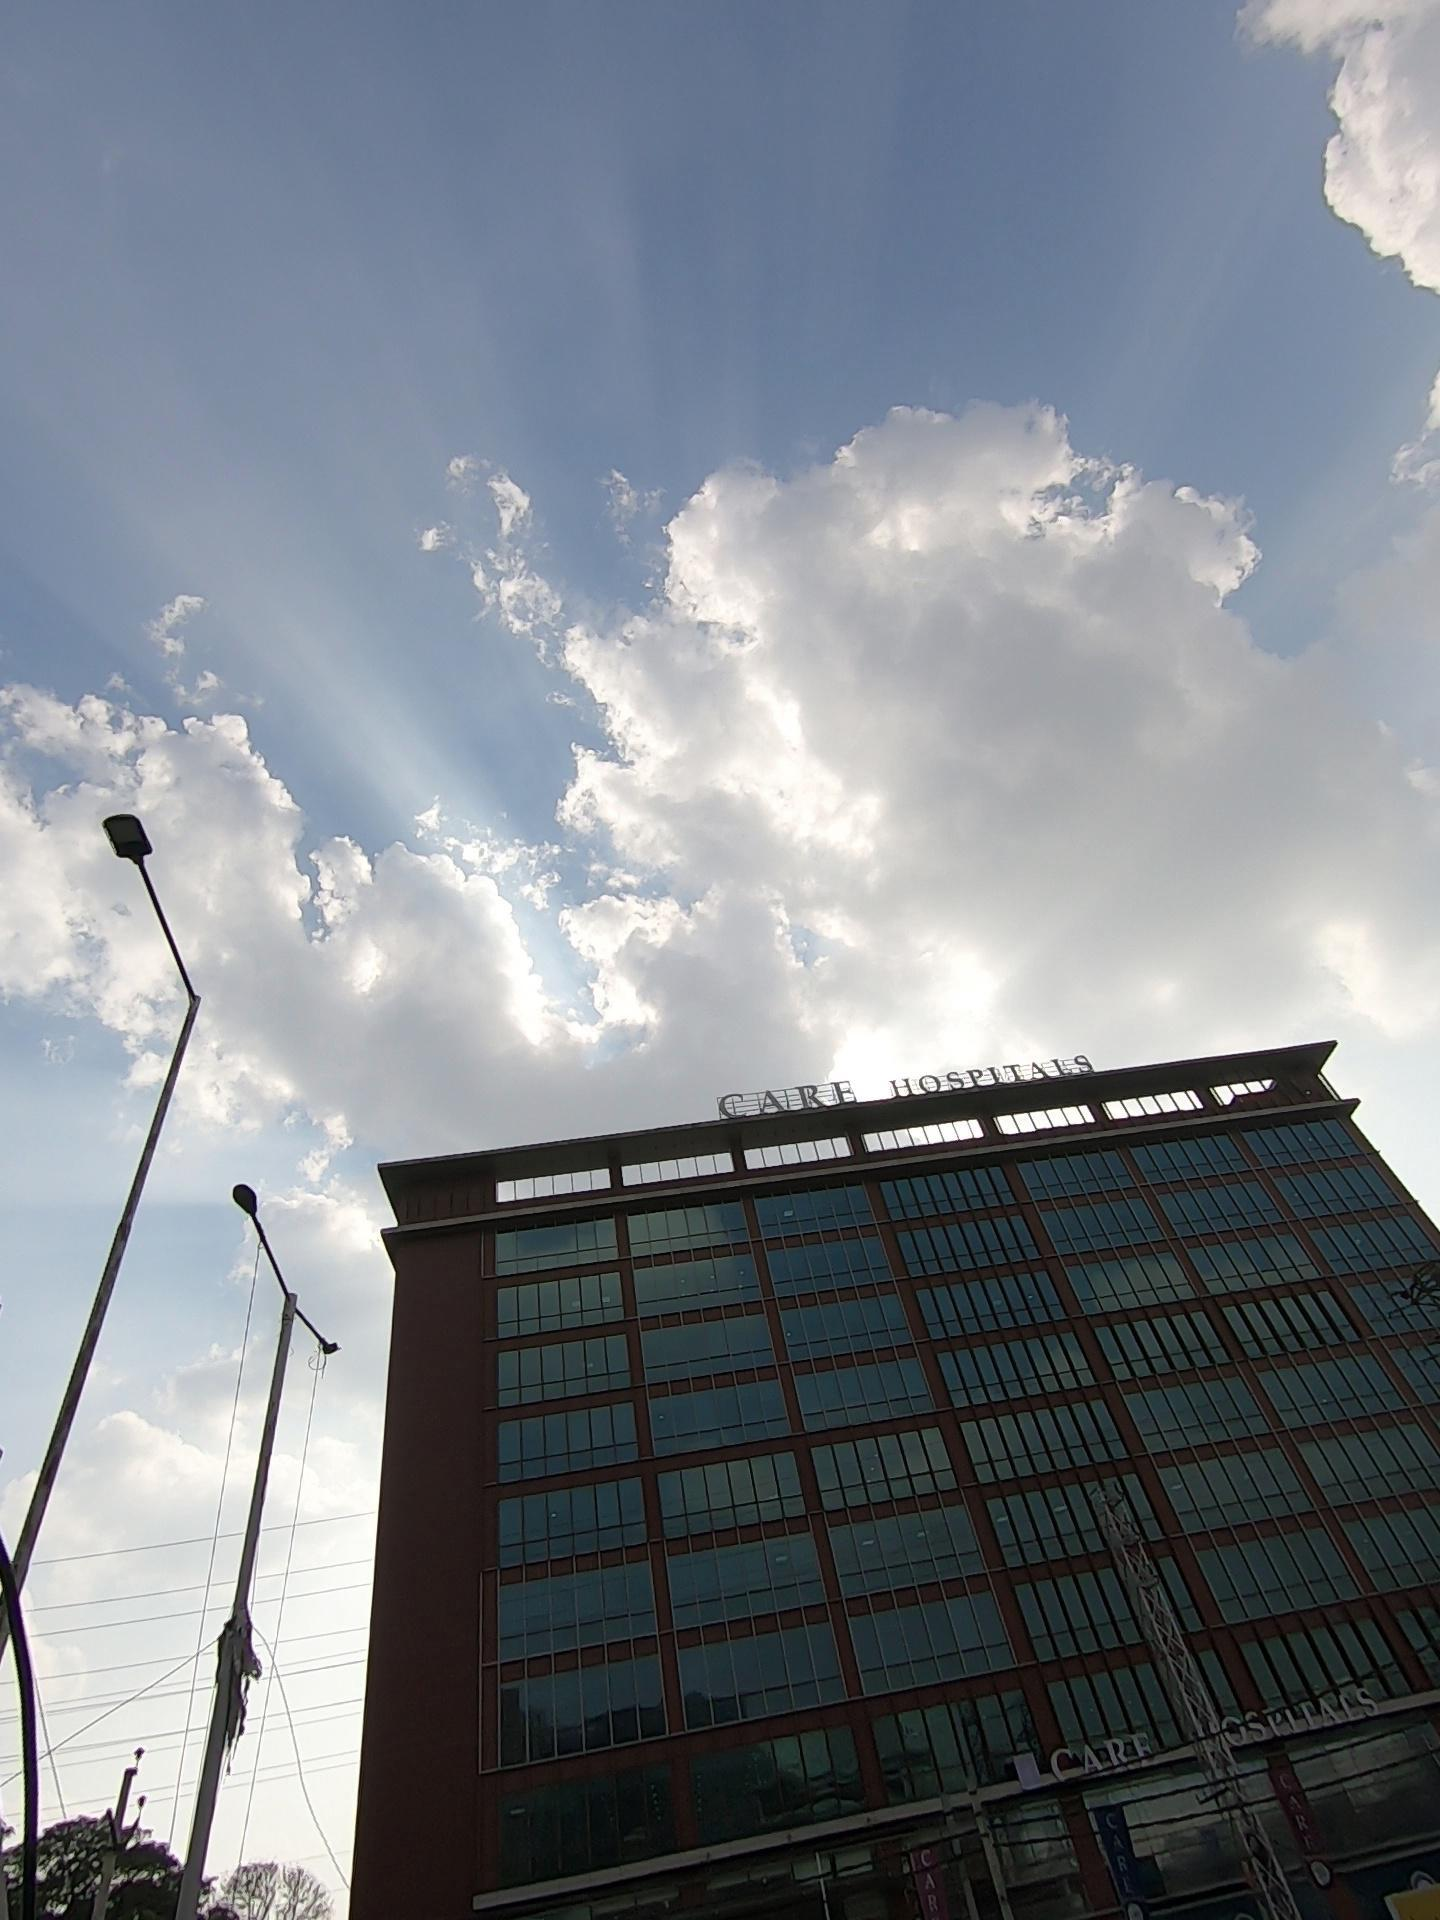off: (80, 782, 251, 1092), (180, 1146, 363, 1403)
